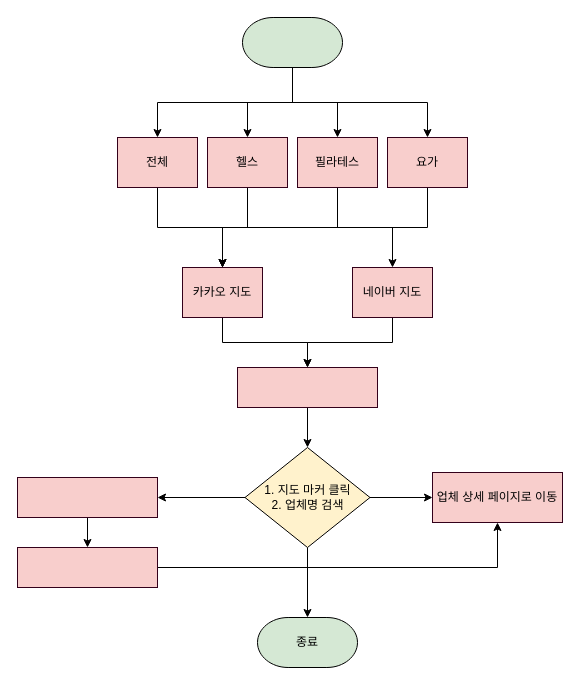
Image size: 580x685. Some labels were removed from this diagram. The shapes that lost their labels are listed below. From the top down, each one's centre as x and y in pixels, then its label:
At point (292, 42): "PLACE".
At point (307, 387): "업체 정보 리스트".
At point (87, 497): "해당 업체 정보 구역으로 이동".
At point (87, 567): "상세보기 클릭".
